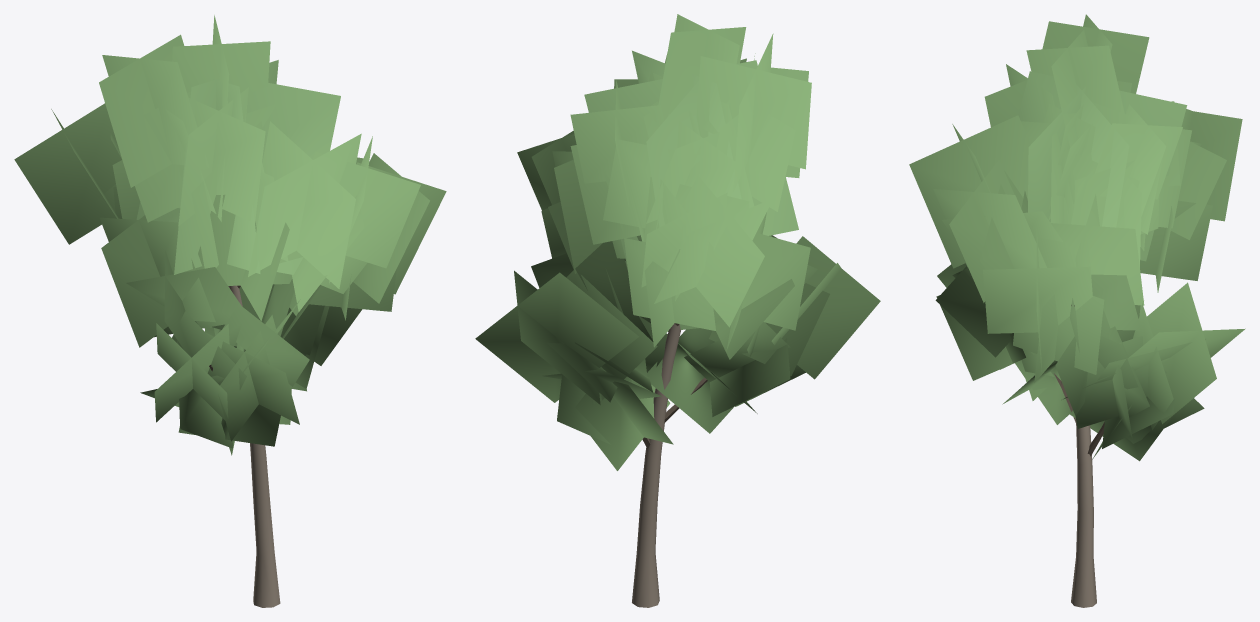
The model's file is tree_sapling_a_lod0.glb.
3 views of the same model, side by side, from view 1: azimuth 30°, elevation 25°; view 2: azimuth 150°, elevation 25°; view 3: azimuth 270°, elevation 25° (orthographic). The views are drawn at different scales.
Parts seen in each view (by area): view 1: tree_sapling_a_lod0; view 2: tree_sapling_a_lod0; view 3: tree_sapling_a_lod0.
Part boxes in pixels (bbox=[...]): tree_sapling_a_lod0: bbox=[14, 15, 446, 607]; tree_sapling_a_lod0: bbox=[475, 14, 880, 607]; tree_sapling_a_lod0: bbox=[909, 14, 1245, 607].
Bounding box in the file's own units: 2.67 × 4.42 × 2.5.
